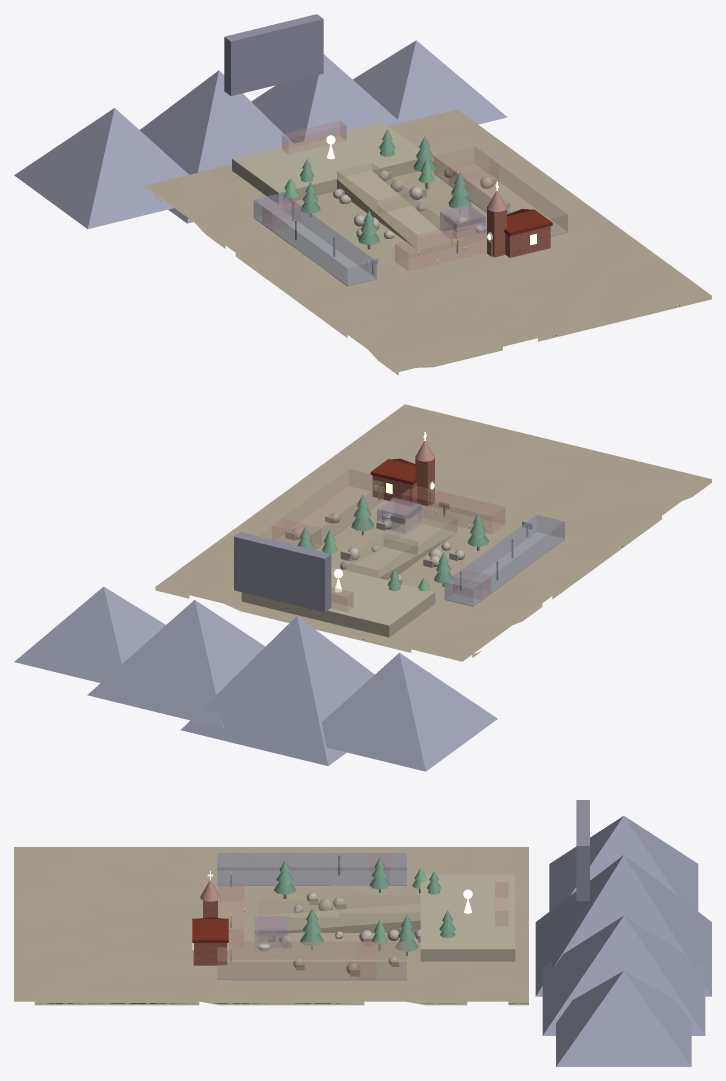
The model's file is hill_difficulty.glb.
The picture shows the model from 3 angles, top to bottom: view 1: azimuth 30°, elevation 25°; view 2: azimuth 150°, elevation 25°; view 3: azimuth 270°, elevation 25°; orthographic projection. The views are drawn at different scales.
Parts seen in each view (by area): view 1: ENV_Hill_Base, VIS_PROP_Ridge_Peaks (×4), ENV_Hill_Summit, PROP_DistantPalaceSilhouette, COL_FalsePath_Danger, COL_FalsePath_Destruction, ENV_Hill_DifficultyPath, TRIGGER_PathChoiceFork, ENV_Hill_DangerPath, VIS_PROP_Chapel (×3), COL_SteepSlopeZone_01, COL_SteepSlopeZone_02 (+5 smaller); view 2: ENV_Hill_Base, VIS_PROP_Ridge_Peaks (×4), PROP_DistantPalaceSilhouette, ENV_Hill_Summit, COL_FalsePath_Danger, COL_FalsePath_Destruction, ENV_Hill_DangerPath, ENV_Hill_DifficultyPath, TRIGGER_PathChoiceFork, VIS_PROP_Chapel (×3), ENV_Hill_DestructionPath, COL_SteepSlopeZone_02 (+4 smaller); view 3: ENV_Hill_Base, VIS_PROP_Ridge_Peaks (×4), ENV_Hill_Summit, COL_FalsePath_Destruction, COL_FalsePath_Danger, ENV_Hill_DestructionPath, ENV_Hill_DifficultyPath, ENV_Hill_DangerPath, COL_SteepSlopeZone_02, COL_SteepSlopeZone_01, VIS_PROP_Chapel (×2), PROP_DistantPalaceSilhouette (+5 smaller).
Part boxes in pixels (box(x1,y1,x2,y2)): ENV_Hill_Base: box(144, 109, 711, 375); VIS_PROP_Ridge_Peaks (×4): box(14, 40, 507, 228); ENV_Hill_Summit: box(232, 122, 419, 204); PROP_DistantPalaceSilhouette: box(224, 14, 323, 95); COL_FalsePath_Danger: box(253, 192, 376, 285); COL_FalsePath_Destruction: box(433, 146, 567, 235); ENV_Hill_DifficultyPath: box(337, 170, 450, 249); TRIGGER_PathChoiceFork: box(395, 221, 486, 271); ENV_Hill_DangerPath: box(254, 210, 376, 286); VIS_PROP_Chapel (×3): box(487, 208, 552, 257); COL_SteepSlopeZone_01: box(377, 197, 451, 249); COL_SteepSlopeZone_02: box(337, 163, 411, 213); ENV_Hill_Base: box(155, 404, 711, 661); VIS_PROP_Ridge_Peaks (×4): box(14, 586, 497, 771); PROP_DistantPalaceSilhouette: box(234, 532, 331, 612); ENV_Hill_Summit: box(241, 566, 435, 637); COL_FalsePath_Danger: box(444, 515, 564, 605); COL_FalsePath_Destruction: box(258, 469, 383, 549); ENV_Hill_DangerPath: box(444, 532, 564, 606); ENV_Hill_DifficultyPath: box(344, 524, 456, 579); TRIGGER_PathChoiceFork: box(401, 486, 504, 534); VIS_PROP_Chapel (×3): box(370, 456, 434, 506); ENV_Hill_DestructionPath: box(275, 486, 383, 549); COL_SteepSlopeZone_02: box(344, 533, 417, 577); ENV_Hill_Base: box(14, 847, 528, 1005); VIS_PROP_Ridge_Peaks (×4): box(535, 816, 711, 1066); ENV_Hill_Summit: box(420, 874, 515, 961); COL_FalsePath_Destruction: box(217, 941, 406, 979); COL_FalsePath_Danger: box(217, 853, 406, 885); ENV_Hill_DestructionPath: box(217, 959, 406, 980); ENV_Hill_DifficultyPath: box(258, 903, 420, 932); ENV_Hill_DangerPath: box(217, 870, 406, 885); COL_SteepSlopeZone_02: box(339, 895, 420, 930); COL_SteepSlopeZone_01: box(258, 900, 338, 932); VIS_PROP_Chapel (×2): box(192, 918, 228, 965); PROP_DistantPalaceSilhouette: box(576, 800, 589, 901).
Bounding box in the file's own units: 73 × 25 × 103.
Materials: 47 (2 with a texture image).
